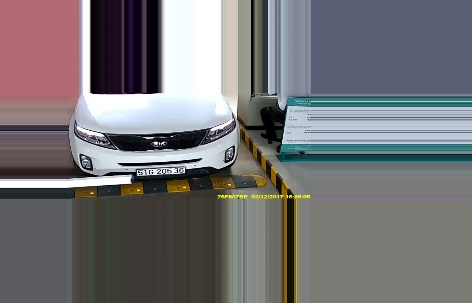plate: (135, 165, 187, 178)
